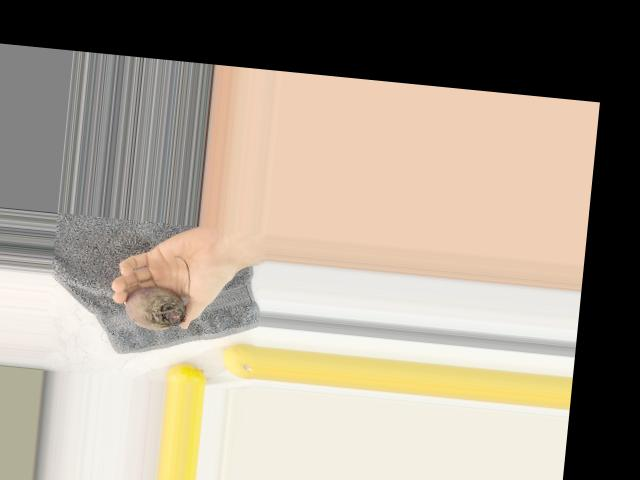beet: (122, 251, 190, 332)
